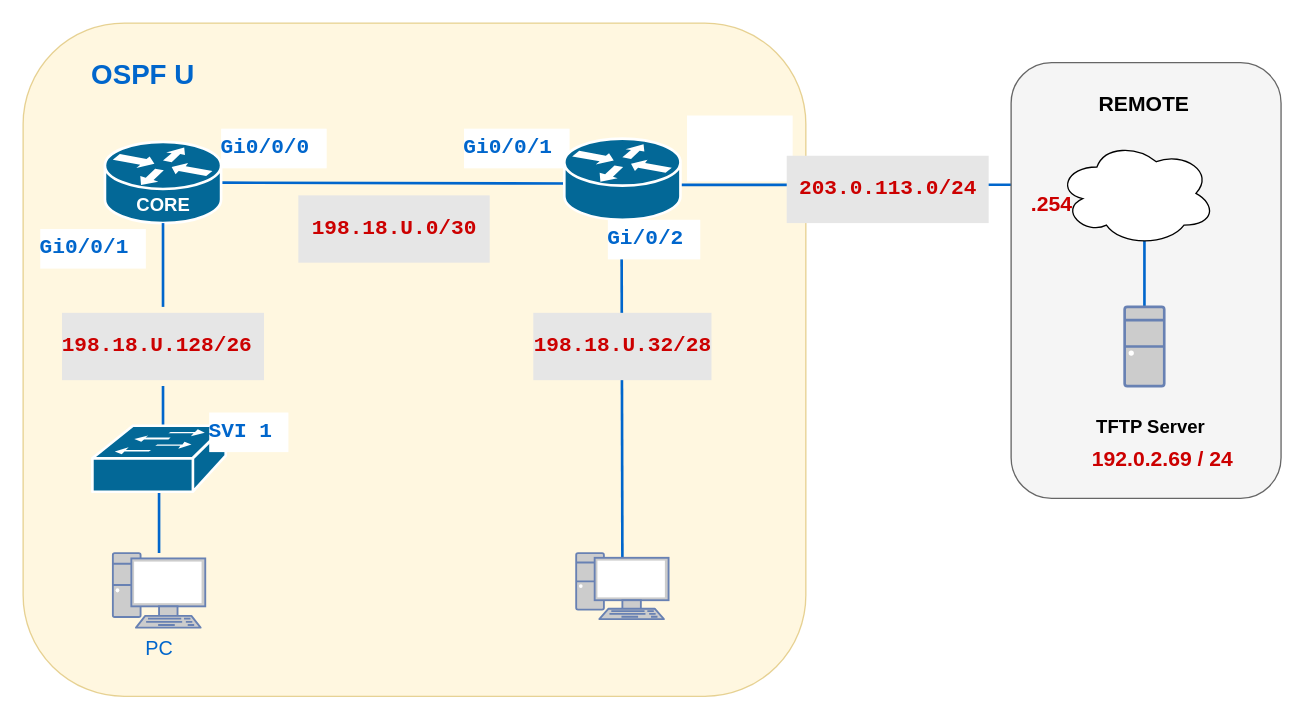
Some shapes in this 1304 by 719 pixel diagram are drawn without their labels. Each missing label, with the centre of its shape:
"ALS" belongs at point (158, 458).
"EDGE" belongs at point (621, 178).
"Gi0/0/0 .U" belongs at point (739, 148).
"VM" belongs at point (621, 585).
